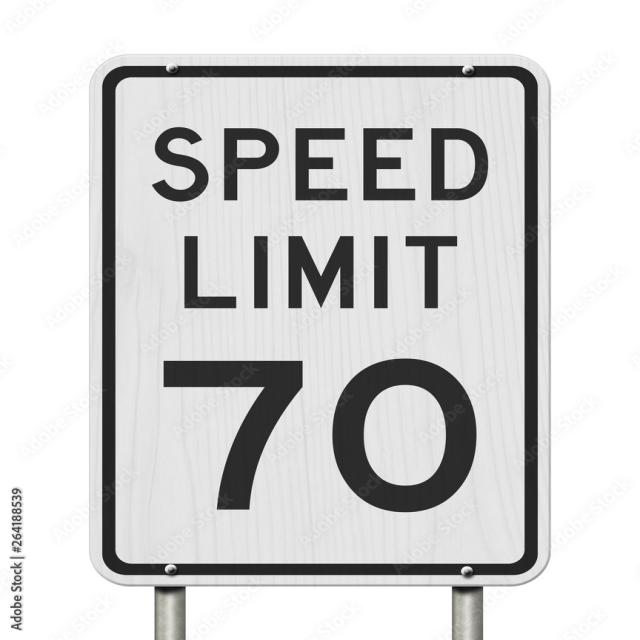speedLimit70: (81, 41, 556, 600)
